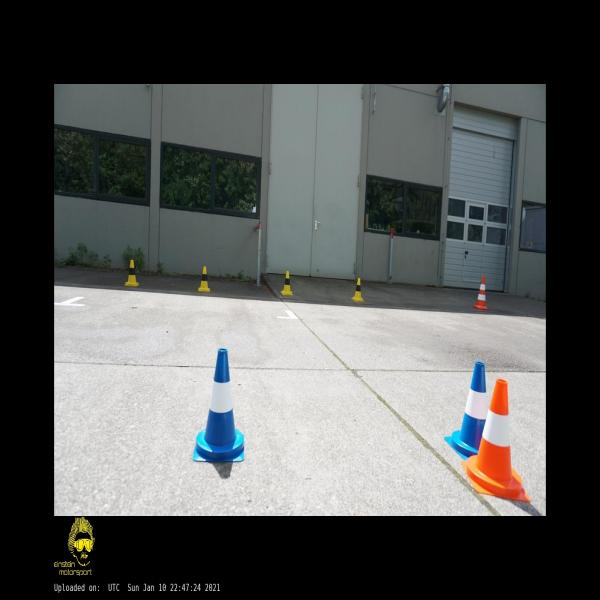blue_cone: (193, 349, 243, 462), (444, 361, 487, 459)
large_orange_cone: (473, 276, 489, 310)
orange_cone: (462, 378, 530, 502)
yellow_cone: (124, 260, 139, 286), (198, 266, 210, 292), (280, 271, 293, 295), (351, 278, 364, 302)
